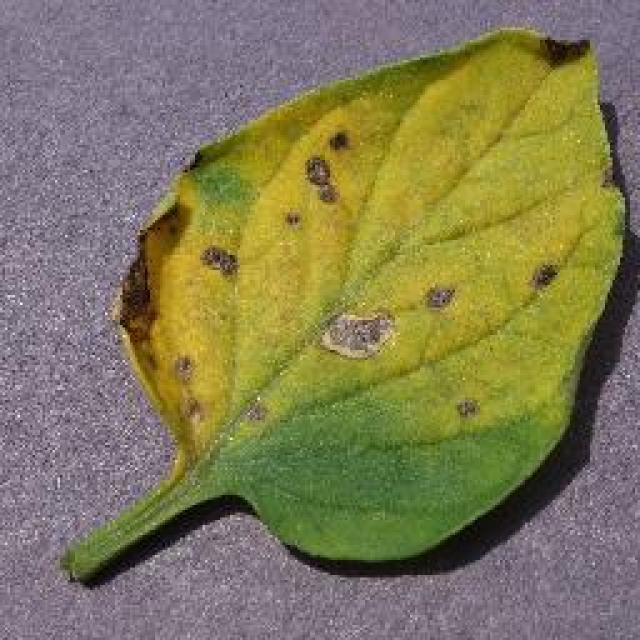Tom_Septoria_leaf_spot: (310, 266, 465, 372), (270, 116, 364, 248), (112, 226, 166, 385), (184, 231, 245, 295), (520, 250, 574, 305)
